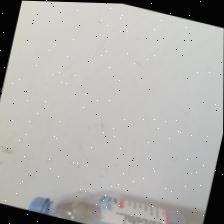plastic: (28, 176, 198, 224)
